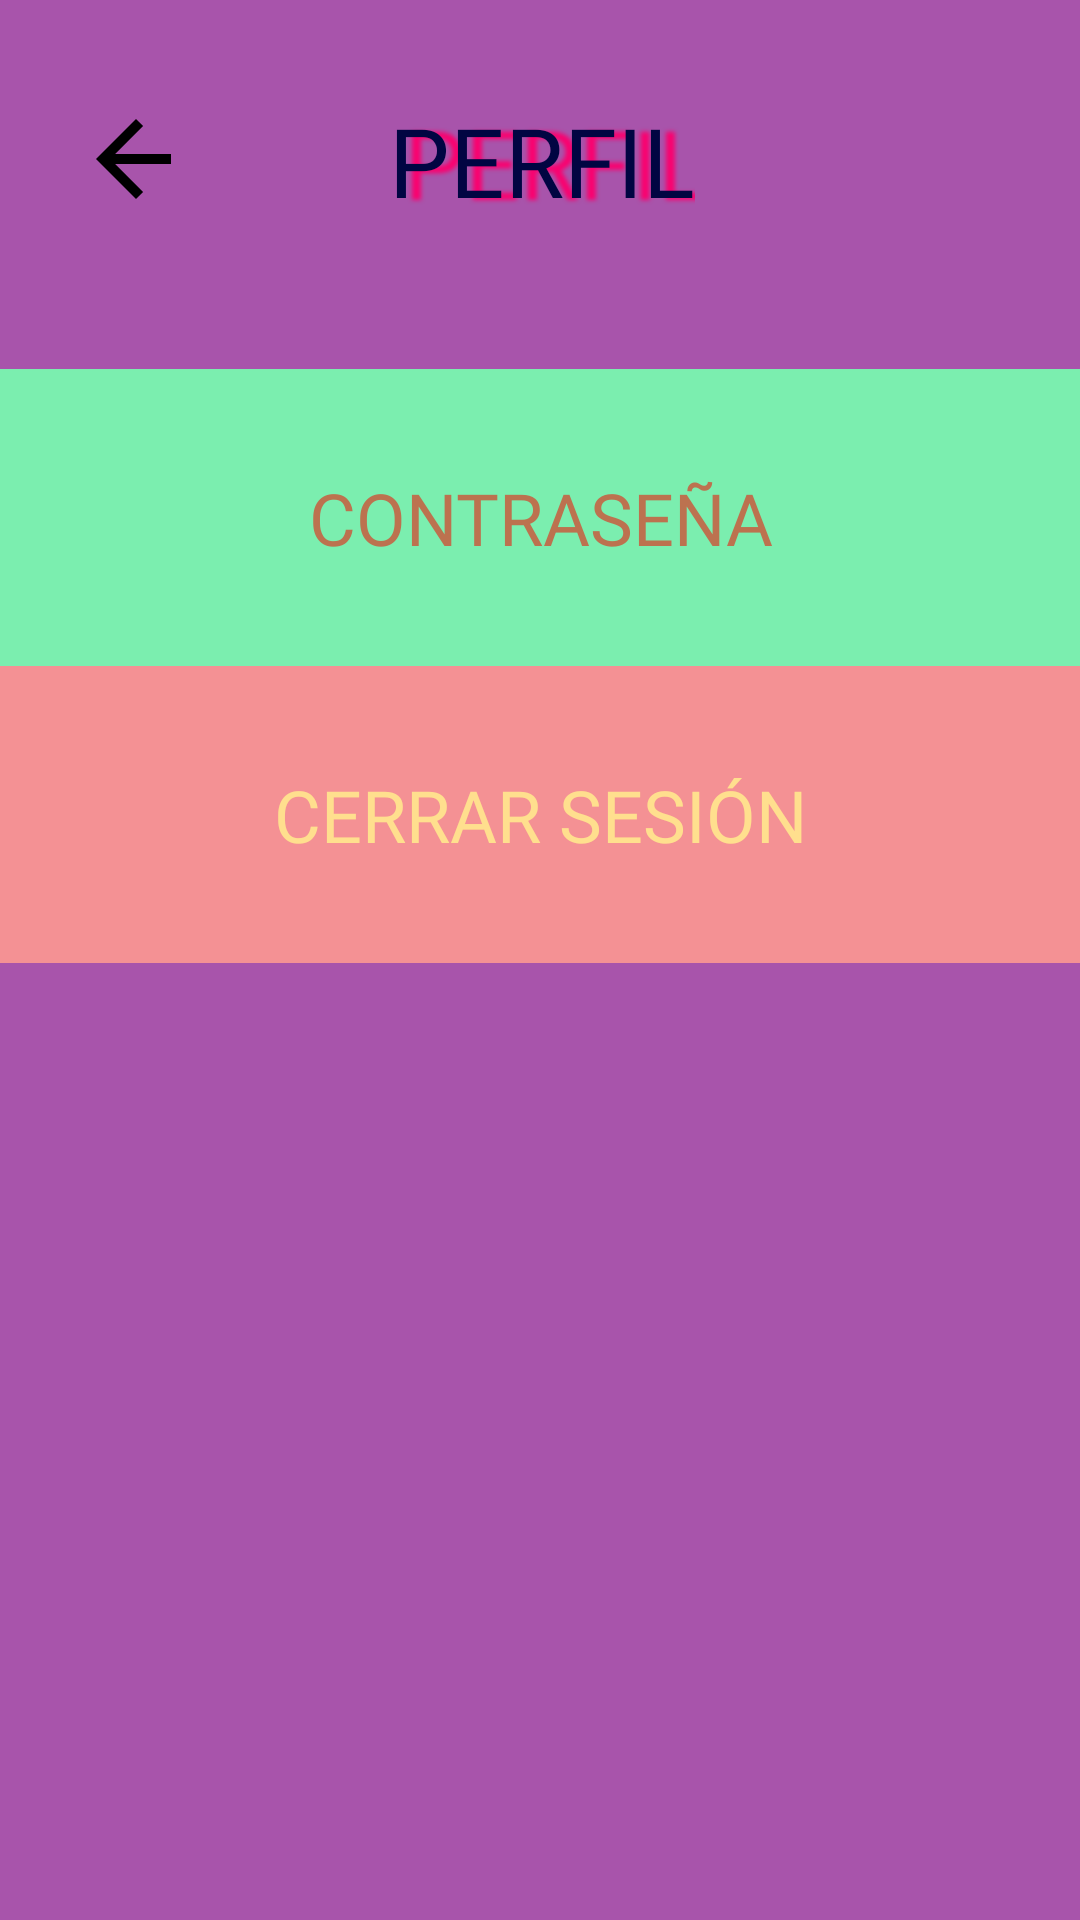

Where to tap for icons on this 1080w x 1920h app screen, as point (x, y):
Volver: point (133, 159)
